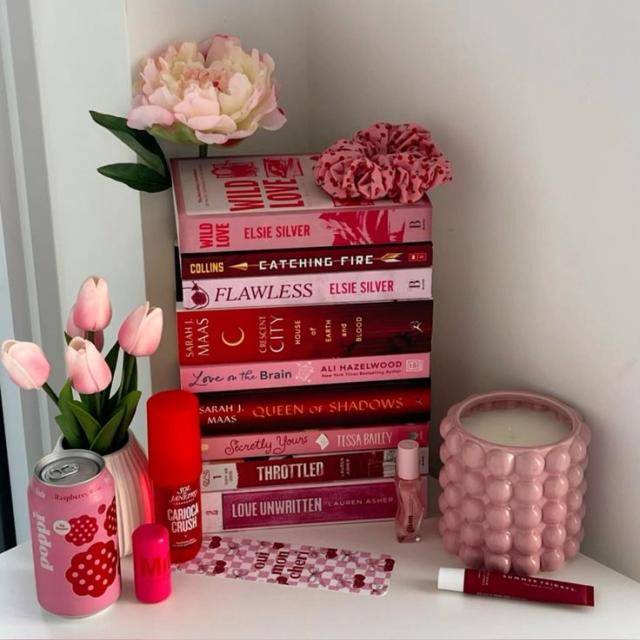book: (178, 301, 430, 366), (180, 207, 431, 255), (199, 384, 430, 434), (203, 479, 397, 533), (183, 267, 431, 309), (181, 352, 430, 392), (203, 423, 428, 460), (181, 245, 431, 278), (203, 450, 395, 491)
candle: (439, 391, 590, 575)
flowers: (90, 36, 283, 192), (2, 277, 161, 455)
